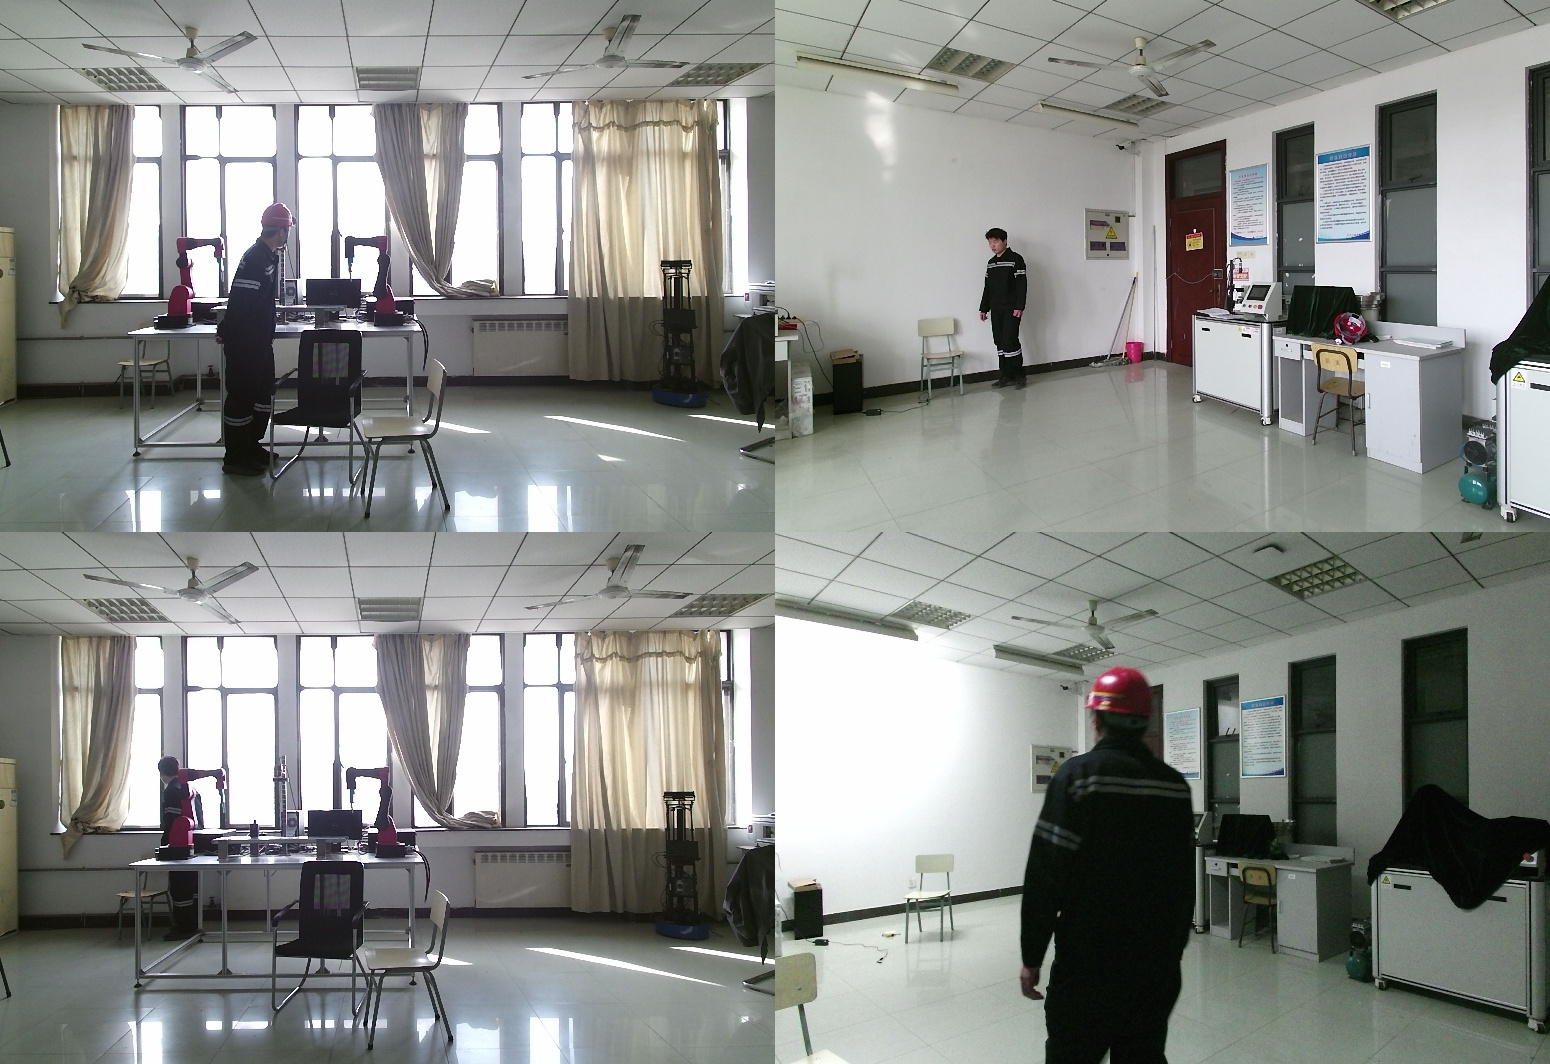person: (1021, 667, 1217, 1064), (220, 204, 293, 478), (976, 228, 1043, 394), (155, 754, 208, 946)
